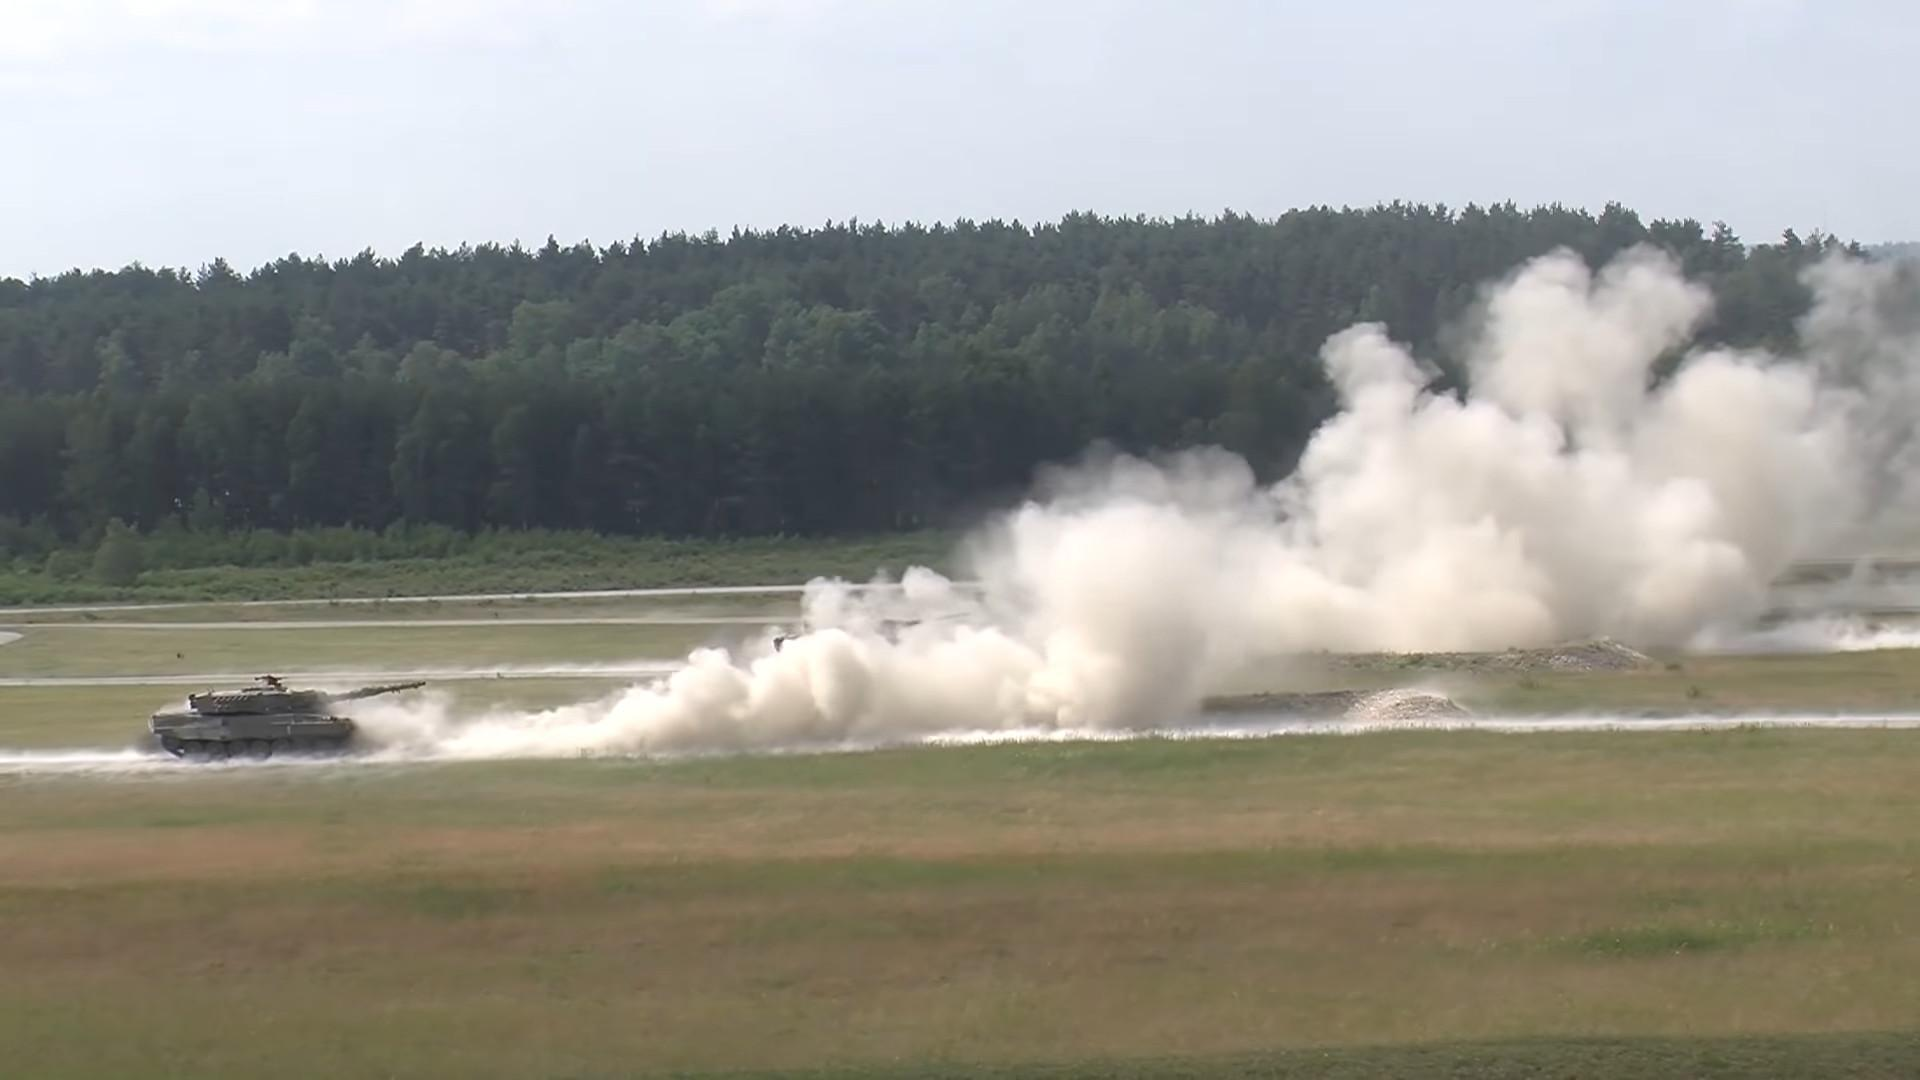tank: (153, 680, 427, 760)
